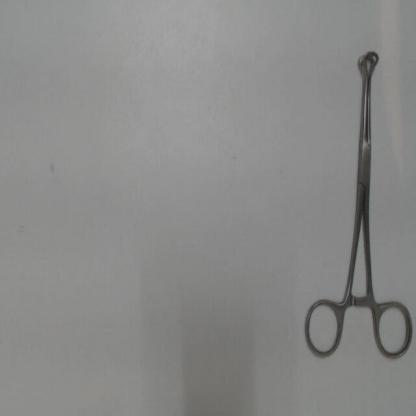Babcock Tissue Forceps: (300, 47, 415, 365)
